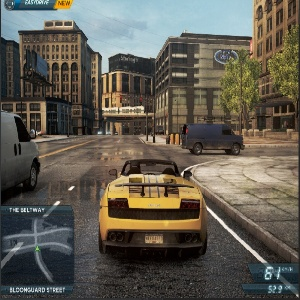ad: (32, 51, 51, 80)
building: (158, 37, 251, 138), (18, 19, 92, 135), (253, 1, 300, 131), (98, 53, 155, 134)
tree: (223, 54, 261, 131), (267, 29, 300, 108)
vehicle: (1, 107, 40, 189), (182, 125, 244, 154), (97, 130, 104, 135)
